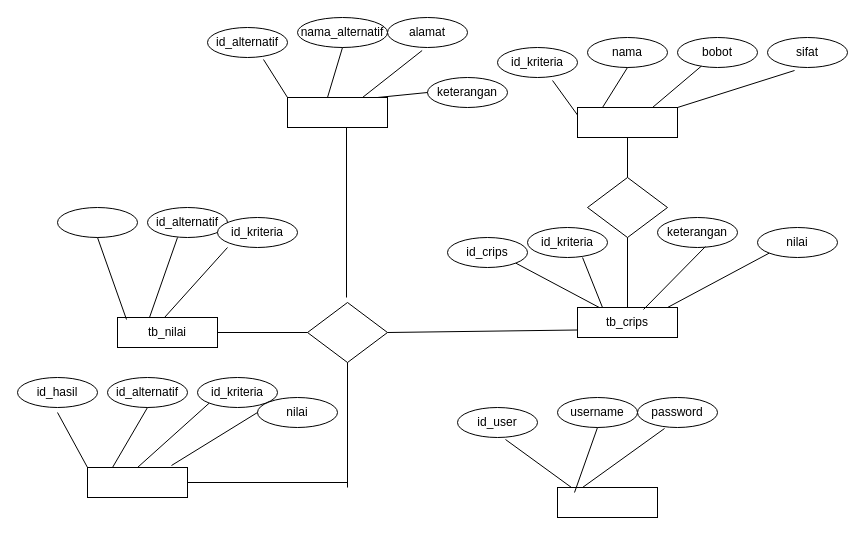
Image size: 865x535. Some labels were removed from this diagram. Here are the shapes that lost their labels. From the top down, the centre of each, then its label:
point 337,112: tb_alternatif
point 627,122: tb_kriteria
point 97,222: id_nilai
point 627,207: Mempunyai
point 347,332: Memiliki
point 137,482: tb_hasil
point 607,502: tb_user
